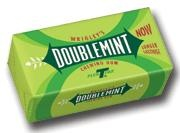grozi_6: (6, 7, 174, 126)
